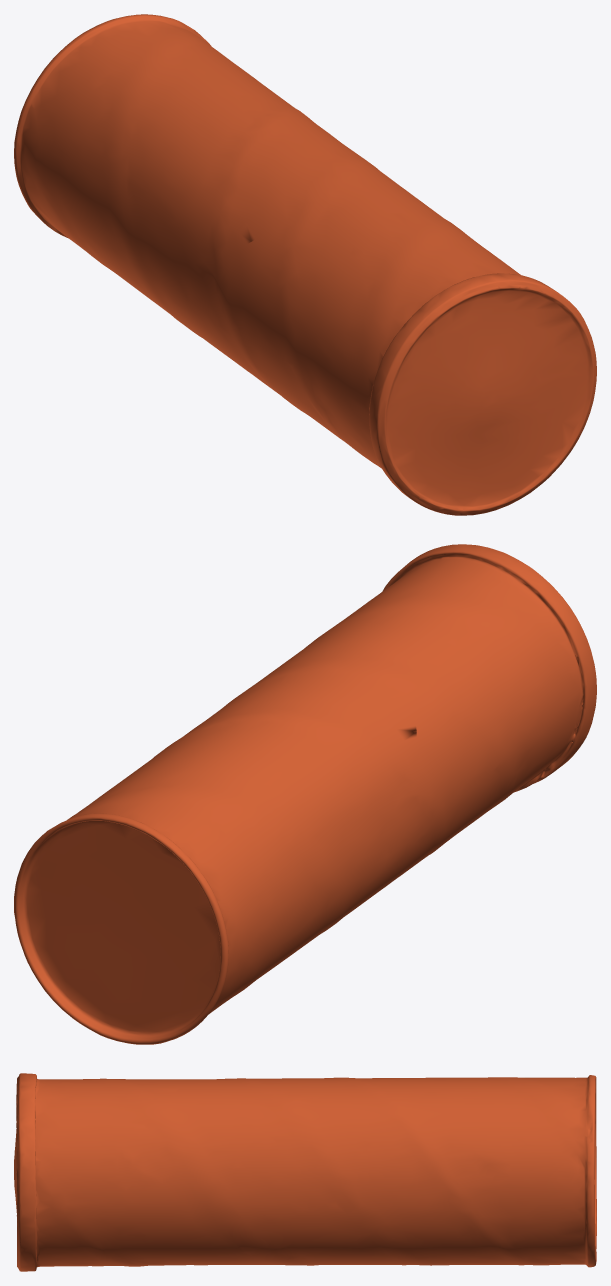
3 views of the same model, one above another, from view 1: azimuth 30°, elevation 25°; view 2: azimuth 150°, elevation 25°; view 3: azimuth 270°, elevation 25° (orthographic). The views are drawn at different scales.
Bounding box in the file's own units: 0.071 × 0.0713 × 0.2089.
